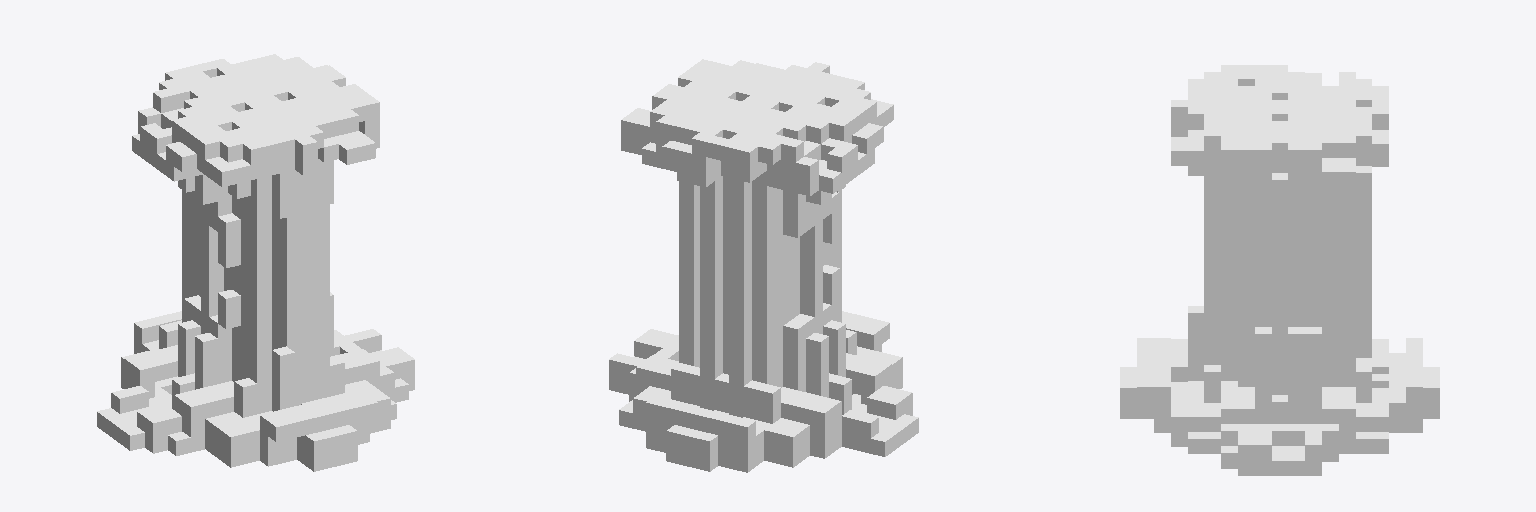
File: bigsplash.obj
The picture shows the model from 3 angles: view 1: azimuth 30°, elevation 25°; view 2: azimuth 150°, elevation 25°; view 3: azimuth 270°, elevation 25°; orthographic projection.
Bounding box in the file's own units: 19 × 20 × 19.